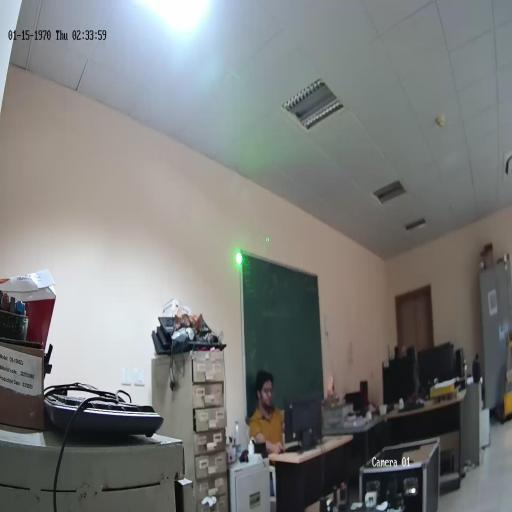laser: (234, 250, 243, 266)
